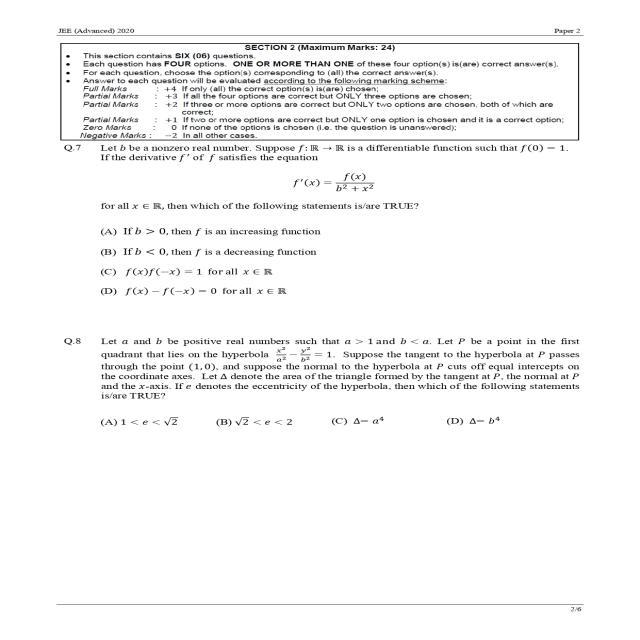Answer_Block: (30, 212, 618, 318), (30, 402, 618, 440)
Instruction: (30, 44, 618, 141)
Question_Answer_Block: (30, 142, 618, 320), (30, 332, 618, 438)
Question_Block: (30, 138, 618, 218), (30, 332, 618, 402)
Question_Paper_Area: (30, 43, 618, 580)
